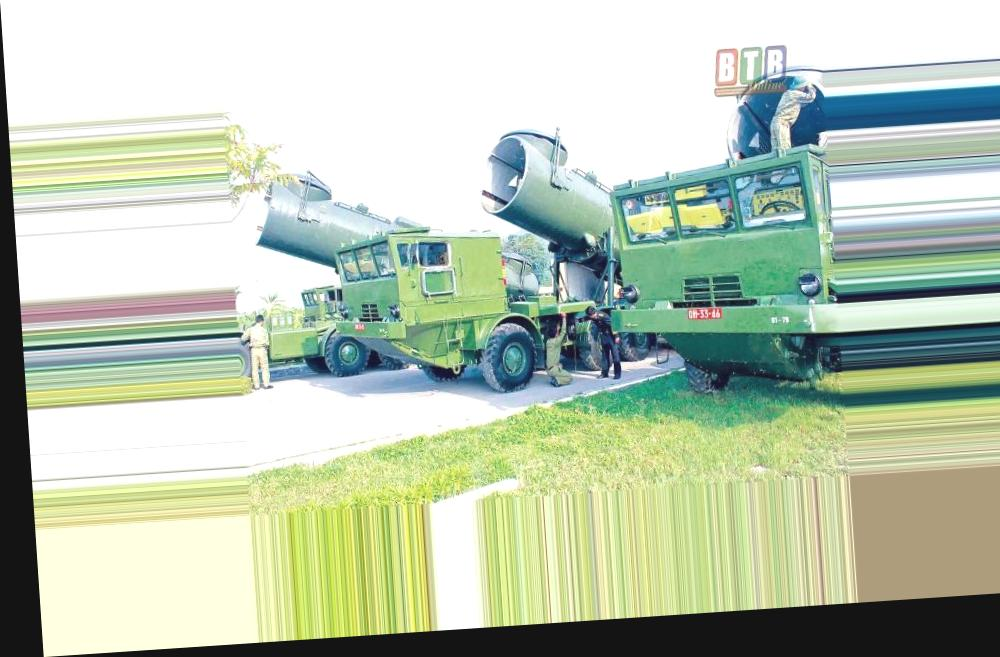License_Plate: (684, 304, 725, 323), (350, 320, 368, 333)
